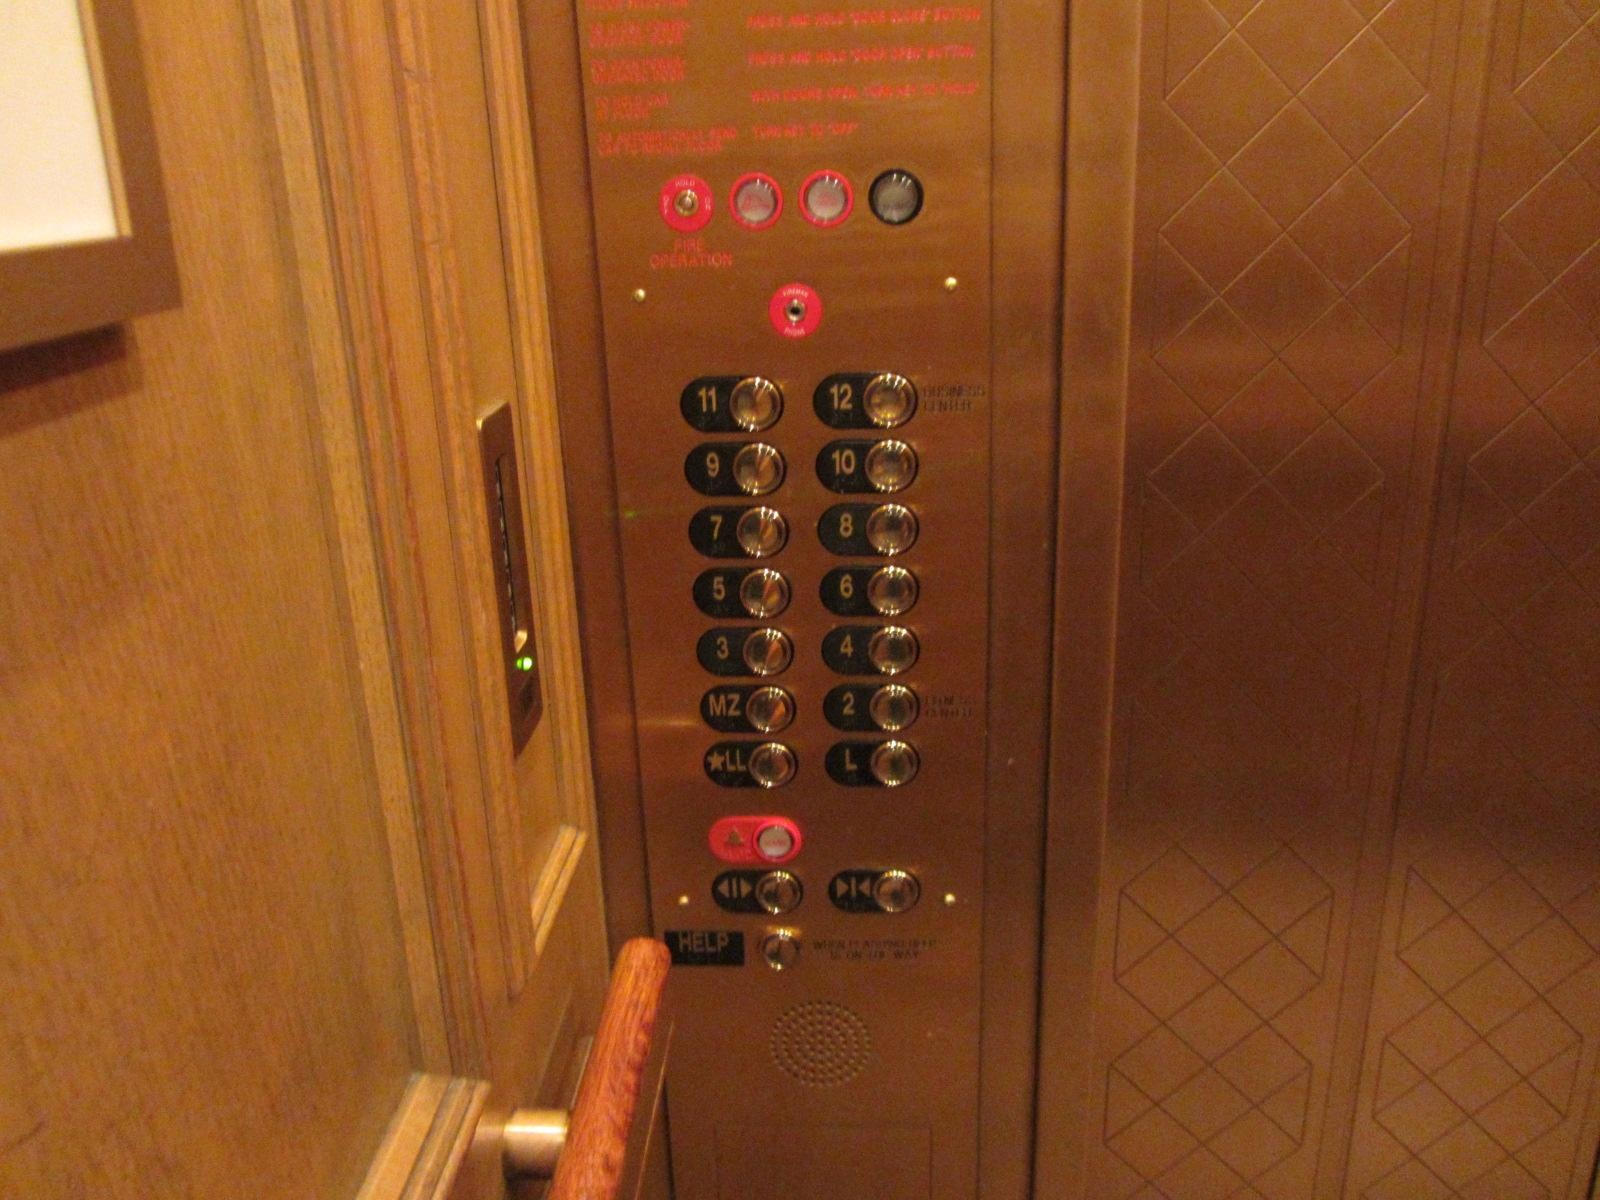10: (815, 439, 918, 494)
11: (682, 376, 784, 434)
12: (813, 371, 920, 431)
2: (821, 681, 921, 732)
3: (695, 626, 795, 678)
4: (821, 625, 921, 676)
5: (692, 567, 792, 619)
6: (819, 565, 921, 616)
7: (688, 504, 790, 558)
8: (816, 503, 918, 556)
9: (684, 440, 787, 495)
L: (825, 740, 920, 789)
MZ: (700, 683, 796, 734)
alarm: (708, 814, 803, 865)
blur: (867, 166, 923, 226), (757, 926, 808, 973)
close: (829, 865, 922, 914)
keyhole: (656, 175, 716, 232), (769, 284, 824, 339)
open: (712, 868, 805, 916)
sLL: (703, 740, 799, 788)
text_help: (663, 928, 748, 967)
unknown: (797, 166, 855, 228), (729, 171, 785, 231)
